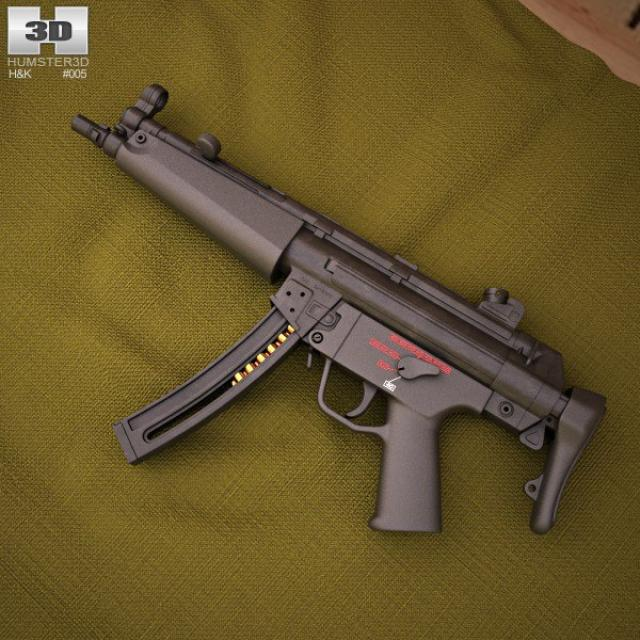SMG: (71, 85, 607, 537)
